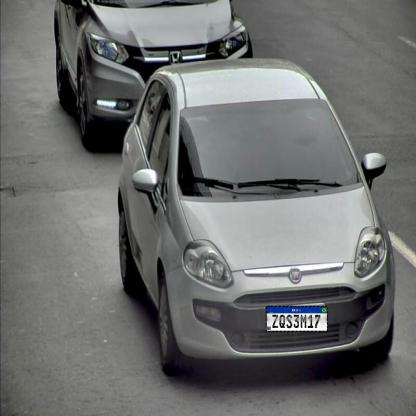PlacaM: (266, 306, 328, 332)
